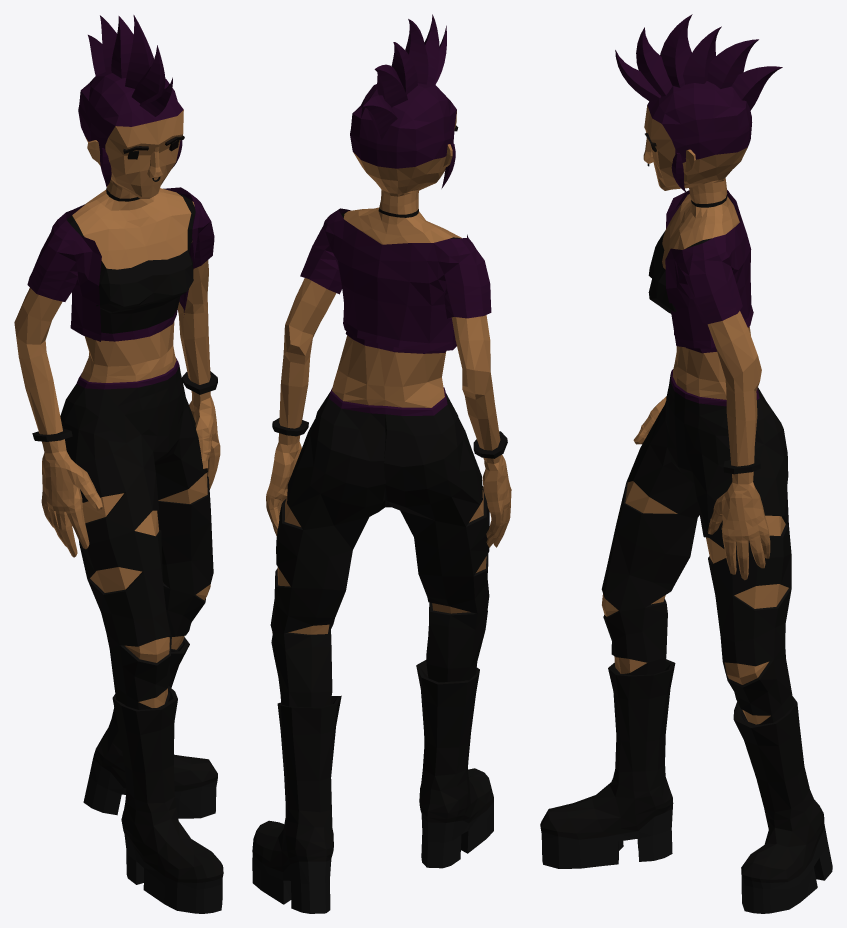
File: Punk.obj
The picture shows the model from 3 angles, left to right: view 1: azimuth 30°, elevation 25°; view 2: azimuth 150°, elevation 25°; view 3: azimuth 270°, elevation 25°; orthographic projection.
Visible parts, largest first — view 1: Punk_Body_Cube.049, Punk_Legs_Cube.005, Punk_Feet_Cube.050, Punk_Head_Cube.031; view 2: Punk_Legs_Cube.005, Punk_Body_Cube.049, Punk_Feet_Cube.050, Punk_Head_Cube.031; view 3: Punk_Legs_Cube.005, Punk_Feet_Cube.050, Punk_Body_Cube.049, Punk_Head_Cube.031.
Part boxes in pixels (x1,y1,x2,y2): Punk_Body_Cube.049: [14, 187, 220, 557]; Punk_Legs_Cube.005: [60, 365, 213, 709]; Punk_Feet_Cube.050: [83, 637, 223, 913]; Punk_Head_Cube.031: [78, 15, 184, 201]; Punk_Legs_Cube.005: [270, 392, 489, 707]; Punk_Body_Cube.049: [266, 207, 511, 547]; Punk_Feet_Cube.050: [252, 660, 493, 913]; Punk_Head_Cube.031: [350, 14, 458, 217]; Punk_Legs_Cube.005: [601, 375, 793, 724]; Punk_Feet_Cube.050: [540, 659, 832, 913]; Punk_Body_Cube.049: [633, 190, 770, 580]; Punk_Head_Cube.031: [615, 14, 782, 207].
Bounding box in the file's own units: 0.5097 × 1.92 × 0.6019.
